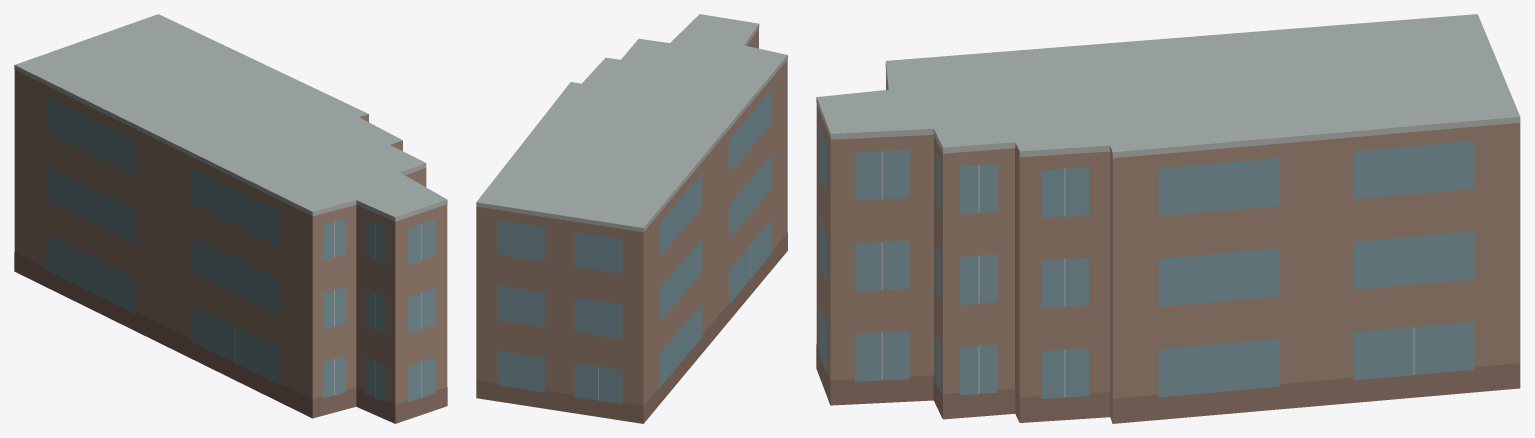
The model's file is survey-upis-32619577.glb.
3 renders of one model, left to right at view 1: azimuth 30°, elevation 25°; view 2: azimuth 150°, elevation 25°; view 3: azimuth 270°, elevation 25°, orthographic. The views are drawn at different scales.
Visible parts, largest first — view 1: survey-upis-32619577.tmp; view 2: survey-upis-32619577.tmp; view 3: survey-upis-32619577.tmp.
Boxes of the visible parts, box(x1,y1,x2,y2) form: survey-upis-32619577.tmp: box(14, 14, 447, 423); survey-upis-32619577.tmp: box(476, 14, 787, 423); survey-upis-32619577.tmp: box(816, 14, 1520, 423).
Bounding box in the file's own units: 12.24 × 11.2 × 26.32.
